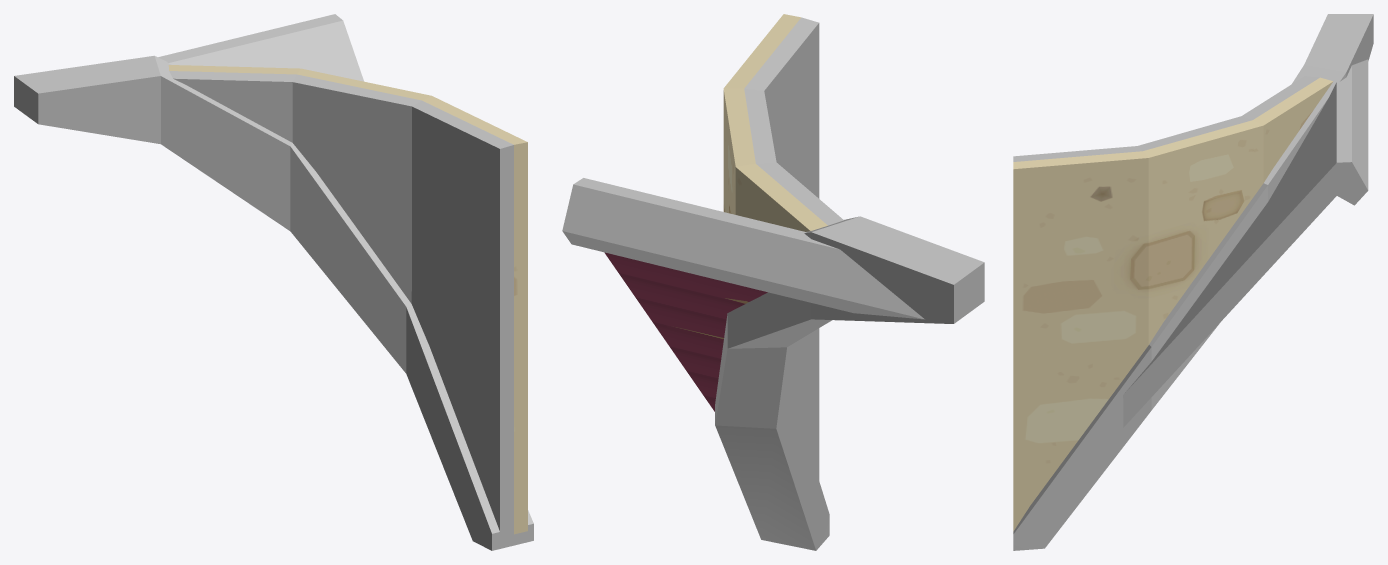
File: SM_Bld_Roof_Straight_Tower_03.fbx
3 views of the same model, side by side, from view 1: azimuth 30°, elevation 25°; view 2: azimuth 150°, elevation 25°; view 3: azimuth 270°, elevation 25° (orthographic). The views are drawn at different scales.
Parts seen in each view (by area): view 1: SM_Bld_Roof_Straight_Tower_03; view 2: SM_Bld_Roof_Straight_Tower_03; view 3: SM_Bld_Roof_Straight_Tower_03.
Part boxes in pixels (x1=…): SM_Bld_Roof_Straight_Tower_03: x1=14, y1=14, x2=533, y2=550; SM_Bld_Roof_Straight_Tower_03: x1=562, y1=14, x2=984, y2=550; SM_Bld_Roof_Straight_Tower_03: x1=1013, y1=14, x2=1373, y2=550.
Bounding box in the file's own units: 266 × 313 × 266.
